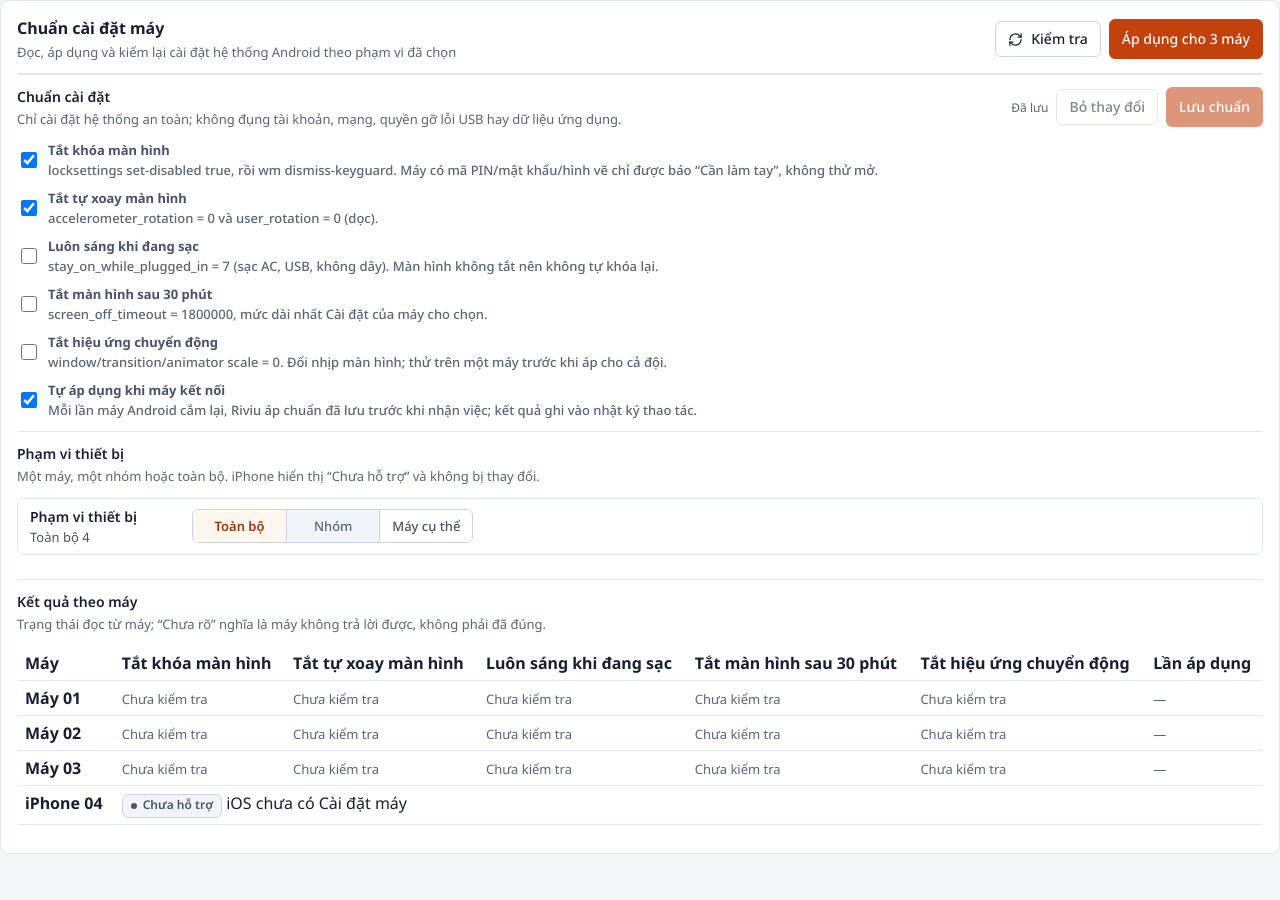
Scenario: DeviceSettingsPage › shows a failed read as unknown, never as matching the baseline
expect the text "Tắt khóa màn hình" is shown: met, box [48,141,170,159]
Click the button "Kiểm tra".
click(1048, 39)  # box [995,21,1101,57]
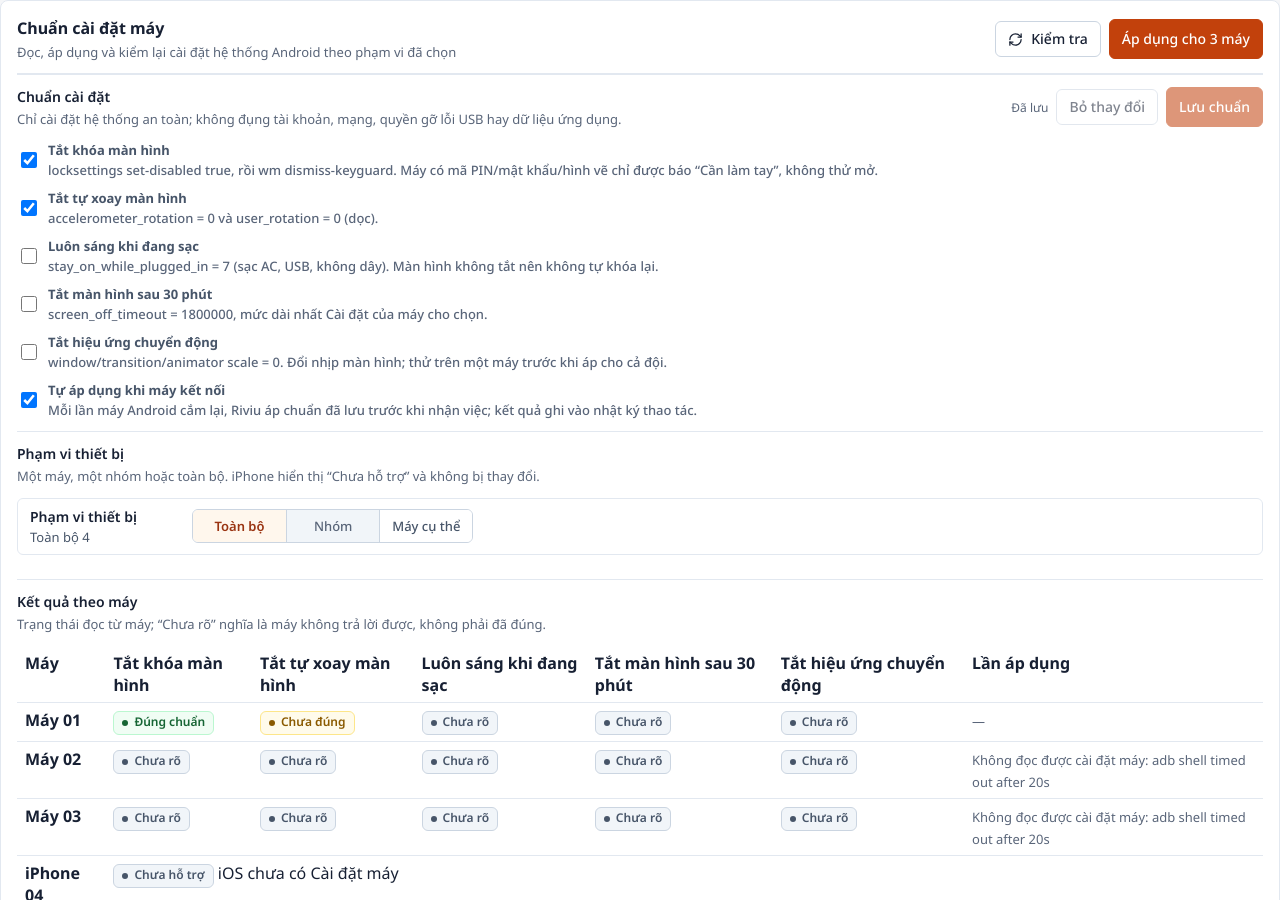
expect the text "Đúng chuẩn" is shown: met, box [113,710,214,734]
expect the text "Chưa đúng" is shown: met, box [260,710,354,734]
expect the text "Chưa rõ" is shown 5 times: met, box [113,750,190,774]; [260,750,336,774]; [422,750,498,774]; [595,750,671,774]; [781,750,857,774]
